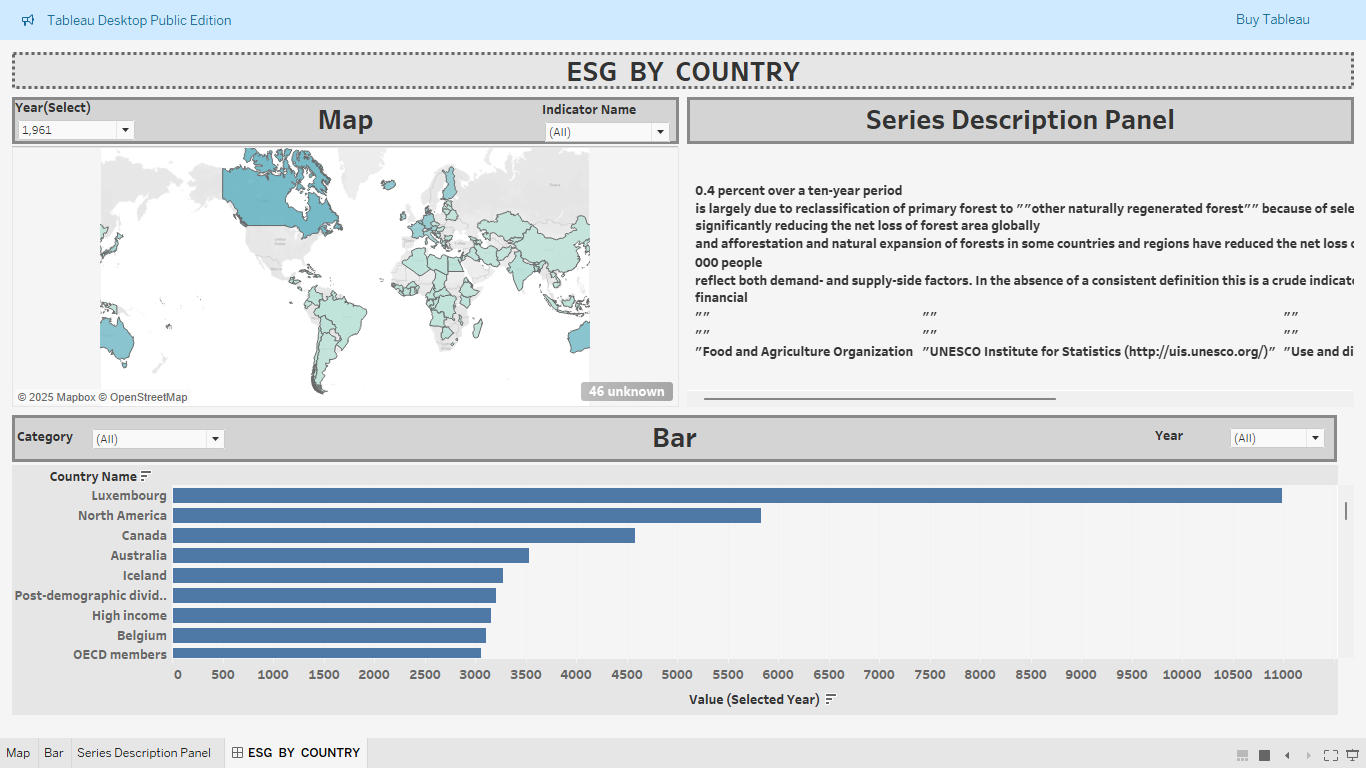

The page's visual inventory and layout, read from the dashboard file:
{"tool":"tableau","page":{"name":"ESG  BY  COUNTRY","canvas":[1000,1000],"units":"permille","ordinal":0},"visuals":[{"type":"title","box":[6.9,14.7,986.1,82.7]},{"type":"parameter","param":"[Parameters].[Parameter 1]","box":[11.3,82.7,90,77.2]},{"type":"filter","title":"Map","param":"[federated.1seq64d1wzt2qu0zs3f0p11hdh7l].[none:Indicator Name:nk]","box":[396.5,86.4,96.1,82.7]},{"type":"worksheet","title":"Map","mark":"Automatic","box":[6.9,97.4,492.8,443.6]},{"type":"worksheet","title":"Series Description Panel","mark":"Text","box":[499.7,97.4,493.4,443.6]},{"type":"worksheet","title":"Bar","mark":"Automatic","rows":["Country Name"],"cols":["Calculation_762797236958539777"],"box":[6.9,541,986.1,444.2]},{"type":"filter","title":"Bar","param":"[federated.1seq64d1wzt2qu0zs3f0p11hdh7l].[none:Pivot Field Names:ok]","box":[845.9,551.5,126.4,49.6]},{"type":"filter","title":"Map","param":"[federated.1seq64d1wzt2qu0zs3f0p11hdh7l].[none:Calculation_762797236960370691:nk","box":[12.1,553.3,154.1,44.1]}]}

Visuals, with their boxes on the dashboard's canvas, which has no fixed pixel size, in thousandths of its width and height (x1, y1, x2, y2). These are canvas units, not pixel positions in the 1366x768 screenshot, which may show the page scaled, cropped or inside an application window:
title: {"x1": 7, "y1": 15, "x2": 993, "y2": 97}
parameter: {"x1": 11, "y1": 83, "x2": 101, "y2": 160}
"Map" filter: {"x1": 396, "y1": 86, "x2": 493, "y2": 169}
"Map" worksheet: {"x1": 7, "y1": 97, "x2": 500, "y2": 541}
"Series Description Panel" worksheet (Text marks): {"x1": 500, "y1": 97, "x2": 993, "y2": 541}
"Bar" worksheet: {"x1": 7, "y1": 541, "x2": 993, "y2": 985}
"Bar" filter: {"x1": 846, "y1": 552, "x2": 972, "y2": 601}
"Map" filter: {"x1": 12, "y1": 553, "x2": 166, "y2": 597}
